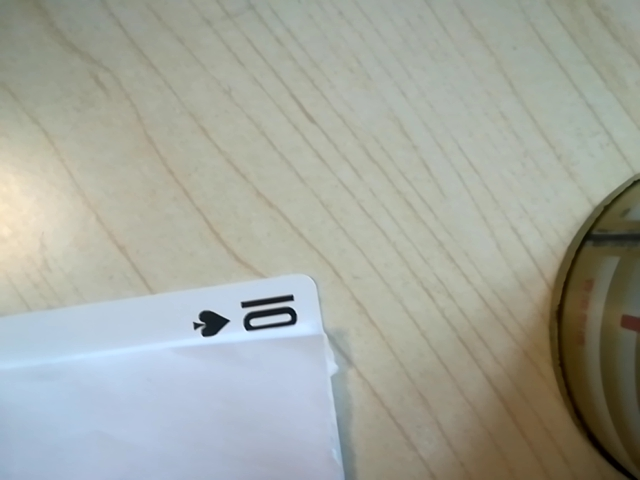ht 10: (172, 288, 316, 347)
